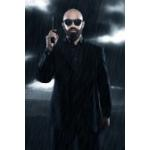Pistol: (52, 14, 56, 44)
